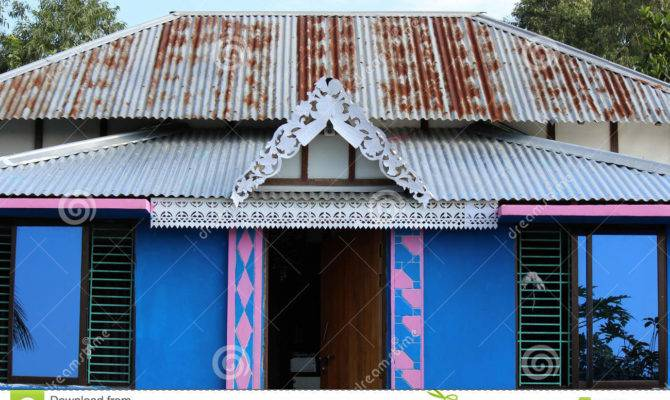Tin-shade House: (11, 12, 658, 366)
